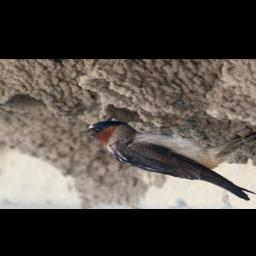Swallow: (77, 120, 256, 201)
